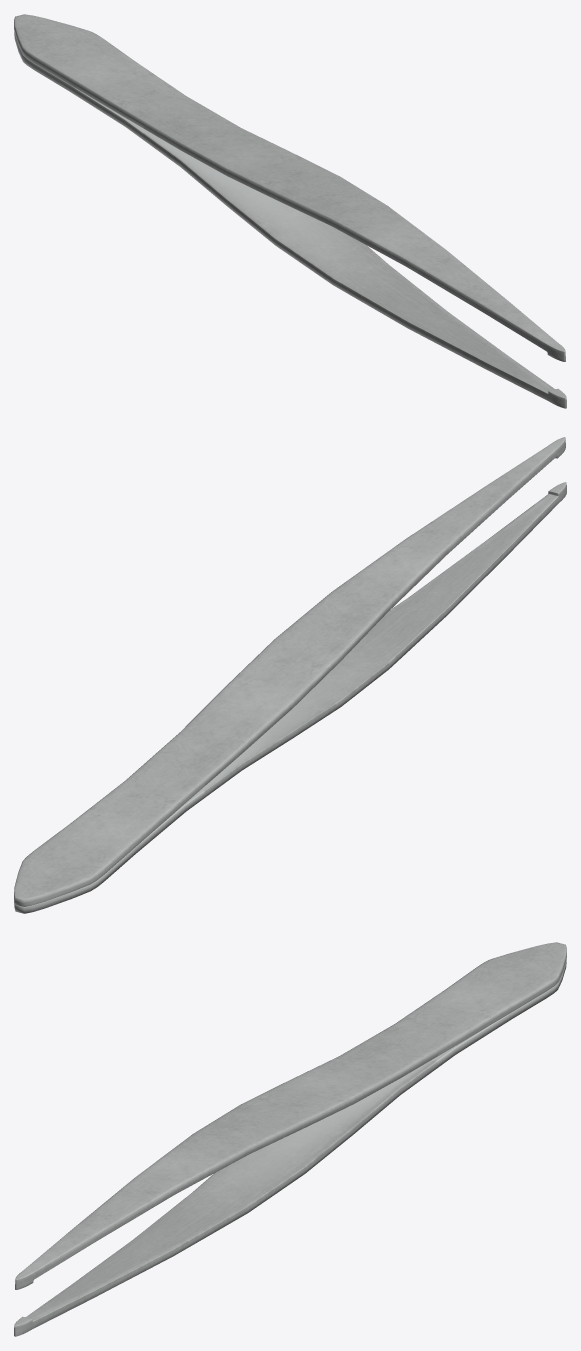
File: Tweezers_.fbx
The picture shows the model from 3 angles, top to bottom: view 1: azimuth 30°, elevation 25°; view 2: azimuth 150°, elevation 25°; view 3: azimuth 330°, elevation 25°; orthographic projection.
Visible parts, largest first — view 1: Tweezers_; view 2: Tweezers_; view 3: Tweezers_.
Boxes of the visible parts, x1,y1,x2,y2 form: Tweezers_: [14, 14, 566, 408]; Tweezers_: [14, 437, 566, 913]; Tweezers_: [14, 942, 566, 1336].
Bounding box in the file's own units: 1.04 × 1.08 × 13.88.
1 material, 1 textured.
